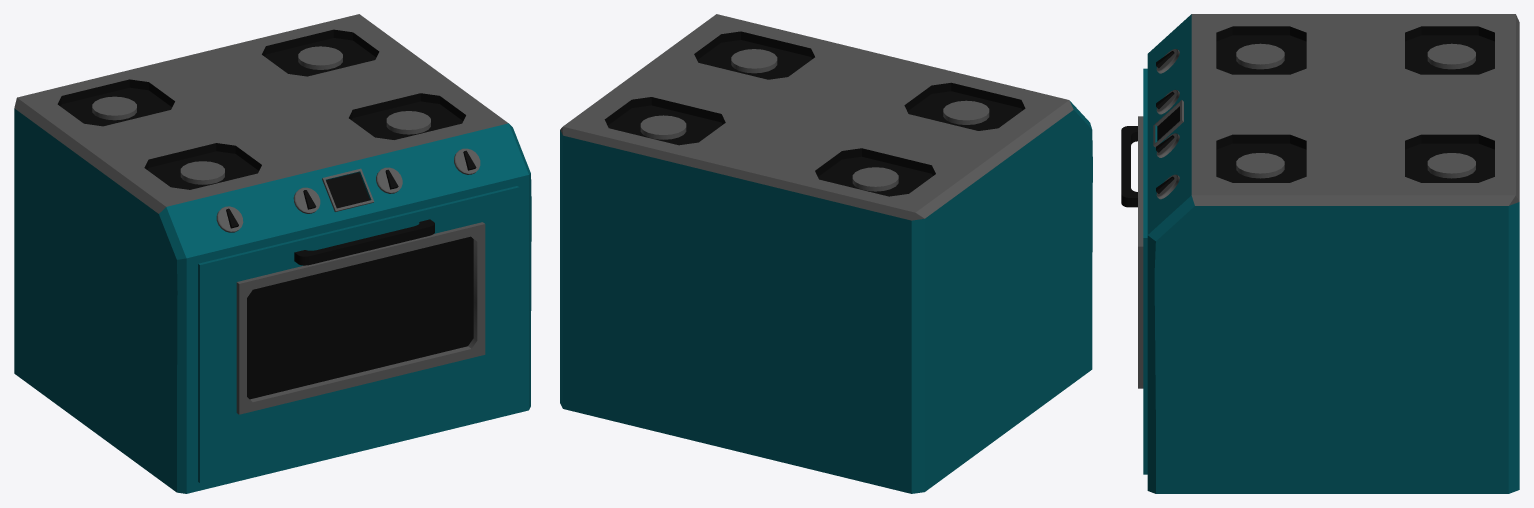
Rendered from Oven_Stove.fbx.
The picture shows the model from 3 angles, left to right: view 1: azimuth 30°, elevation 25°; view 2: azimuth 150°, elevation 25°; view 3: azimuth 270°, elevation 25°; orthographic projection. The views are drawn at different scales.
Parts seen in each view (by area): view 1: Oven_Stove, OvenDoor, Stove, OvenScreen; view 2: Oven_Stove, Stove; view 3: Oven_Stove, Stove, OvenDoor.
Boxes of the visible parts, left/top/right/bottom form: Oven_Stove: left=14, top=108, right=531, bottom=493; OvenDoor: left=198, top=186, right=519, bottom=483; Stove: left=14, top=14, right=508, bottom=213; OvenScreen: left=326, top=172, right=369, bottom=208; Oven_Stove: left=560, top=101, right=1092, bottom=493; Stove: left=560, top=14, right=1073, bottom=220; Oven_Stove: left=1147, top=14, right=1519, bottom=493; Stove: left=1191, top=14, right=1519, bottom=205; OvenDoor: left=1121, top=68, right=1147, bottom=474.
Bounding box in the file's own units: 1.62 × 1.19 × 1.45.
